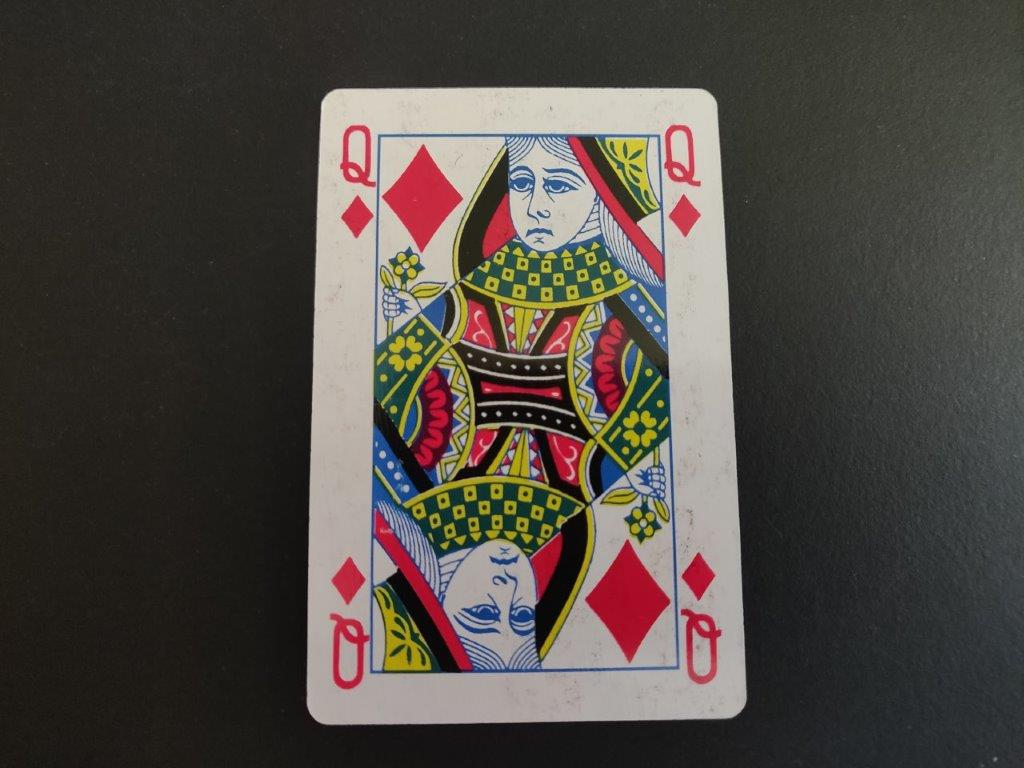QD: (659, 123, 708, 240), (337, 122, 380, 240)
